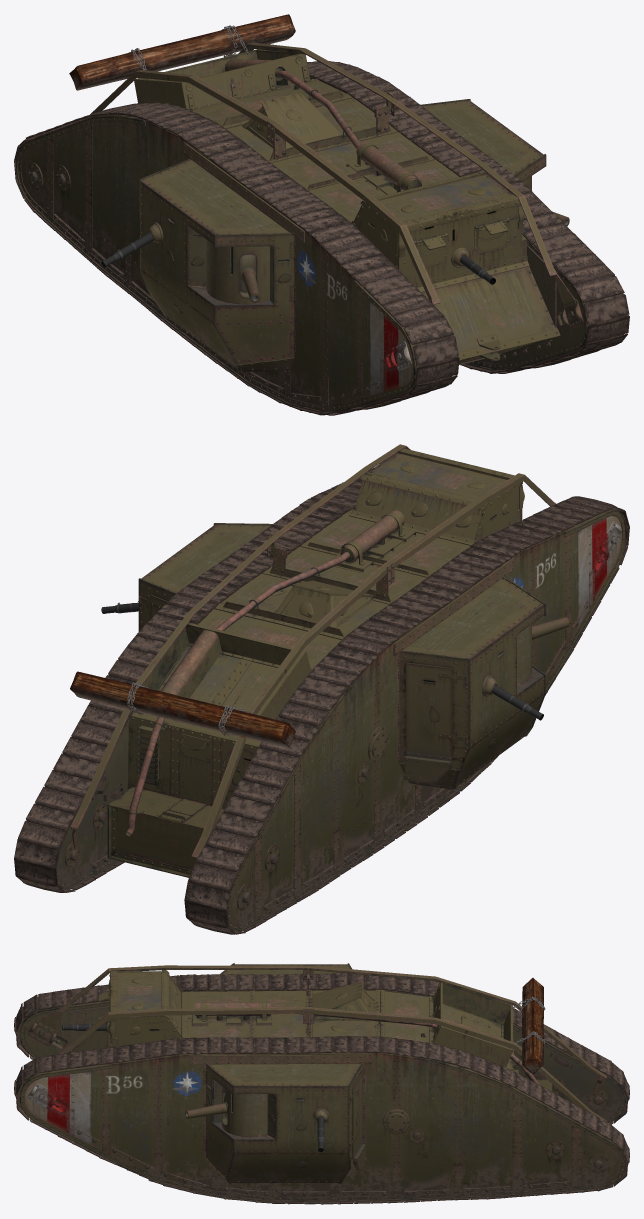
The model's file is mark_iv_tank.glb.
3 views of the same model, one above another, from view 1: azimuth 30°, elevation 25°; view 2: azimuth 150°, elevation 25°; view 3: azimuth 270°, elevation 25° (orthographic). The views are drawn at different scales.
Parts seen in each view (by area): view 1: LiwisGunBall_LP12; view 2: LiwisGunBall_LP12; view 3: LiwisGunBall_LP12.
Boxes of the visible parts, x1,y1,x2,y2 form: LiwisGunBall_LP12: (14,14,629,415); LiwisGunBall_LP12: (14,444,629,934); LiwisGunBall_LP12: (14,963,629,1204).
Bounding box in the file's own units: 4.84 × 2.49 × 7.73.
Materials: 3 (3 with a texture image).
